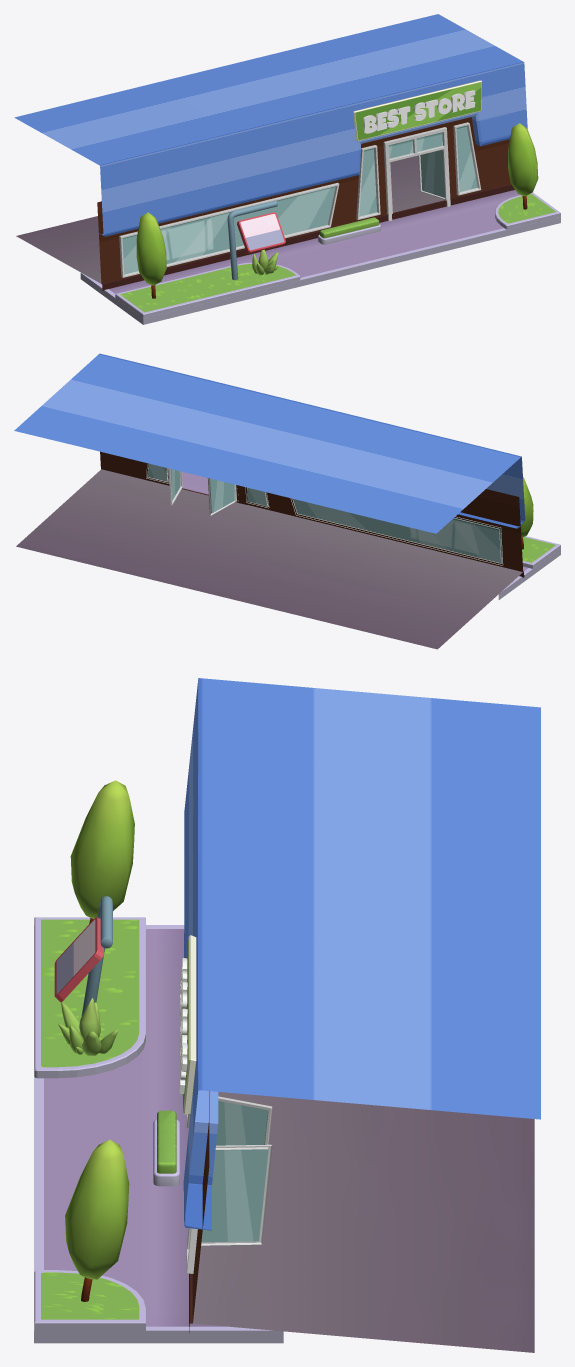
Rendered from beststore (4).fbx.
The picture shows the model from 3 angles, top to bottom: view 1: azimuth 30°, elevation 25°; view 2: azimuth 150°, elevation 25°; view 3: azimuth 270°, elevation 25°; orthographic projection. The views are drawn at different scales.
Visible parts, largest first — view 1: Cylinder; view 2: Cylinder; view 3: Cylinder.
Boxes of the visible parts, left/top/right/bottom form: Cylinder: left=14, top=14, right=560, bottom=324; Cylinder: left=14, top=353, right=560, bottom=649; Cylinder: left=34, top=678, right=540, bottom=1352.
Size of the model in its own units: 1254 by 373 by 652.
